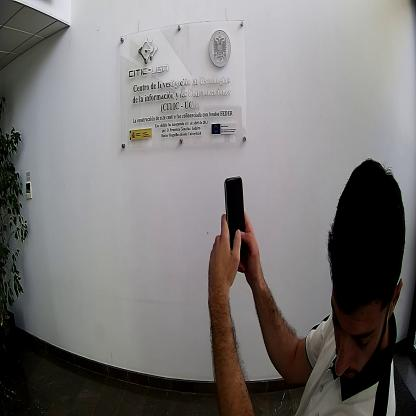smartphone: (224, 175, 246, 262)
